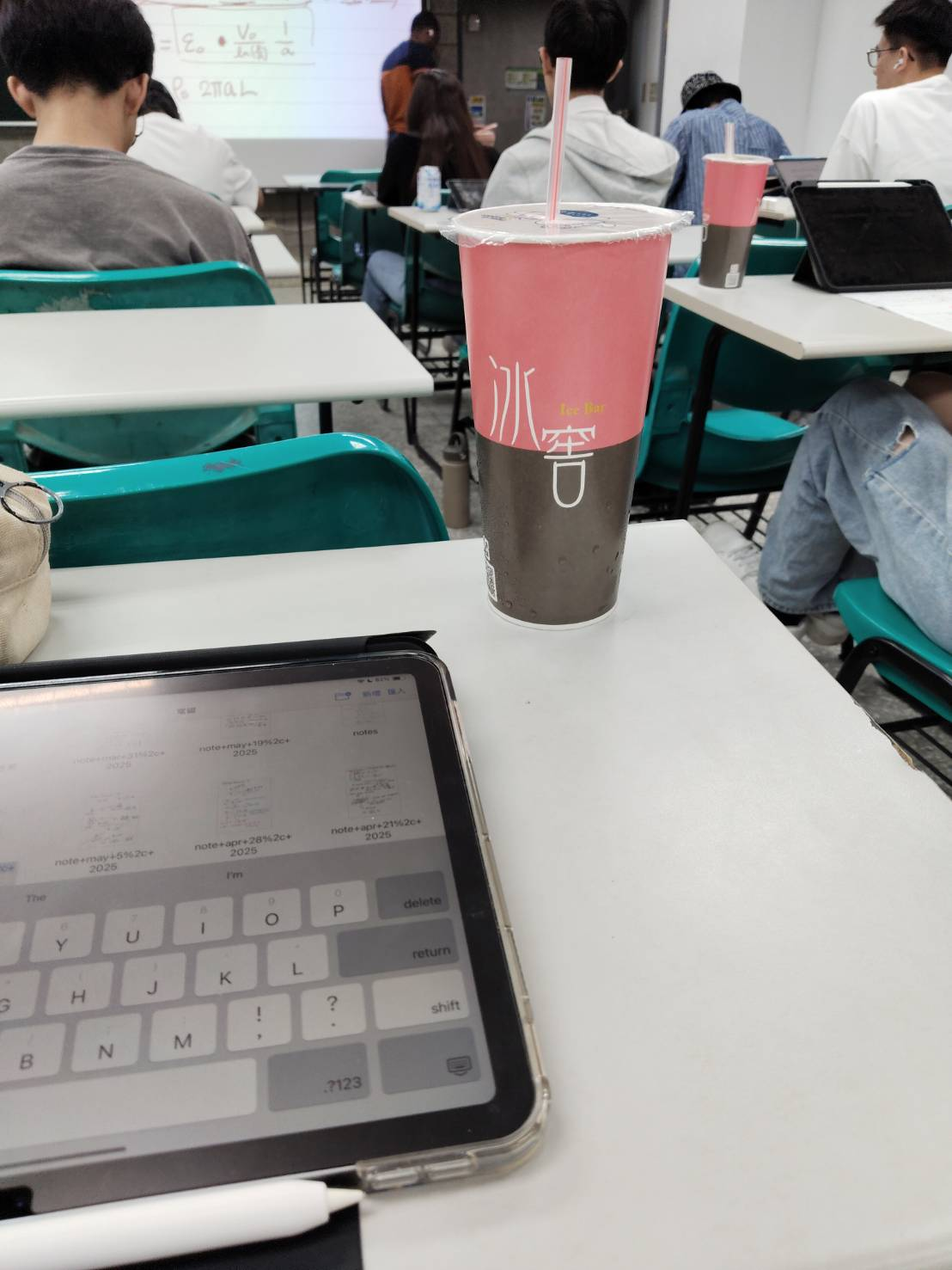paper: (471, 199, 665, 609), (696, 153, 766, 289)
